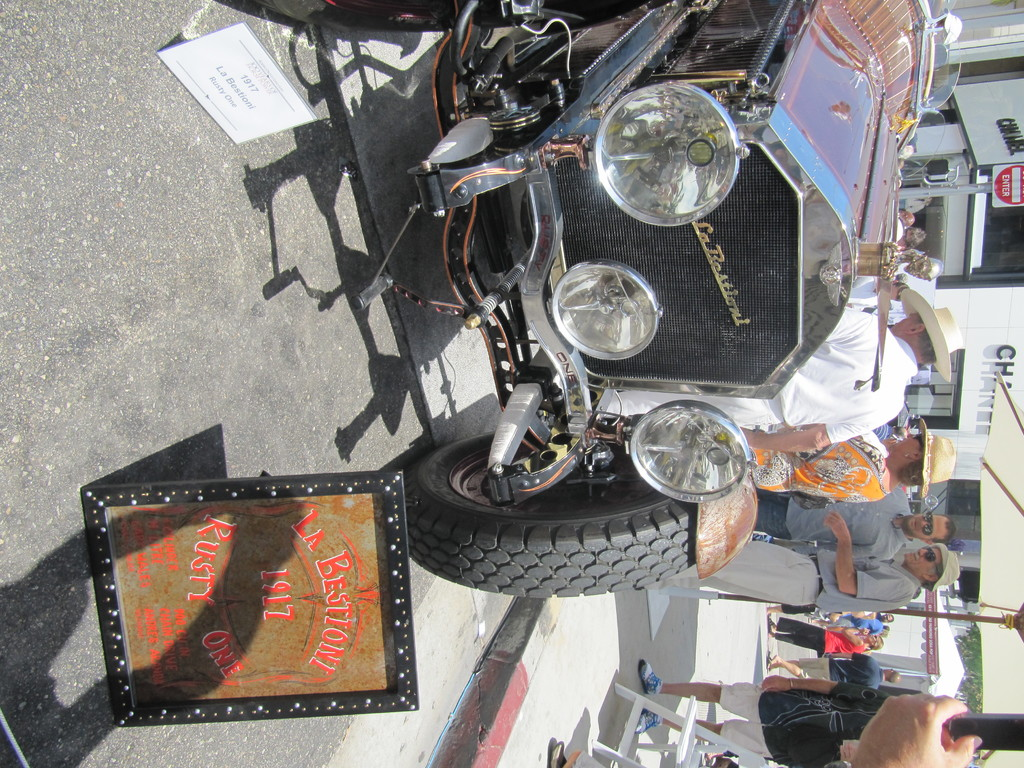Car: (321, 0, 963, 599)
